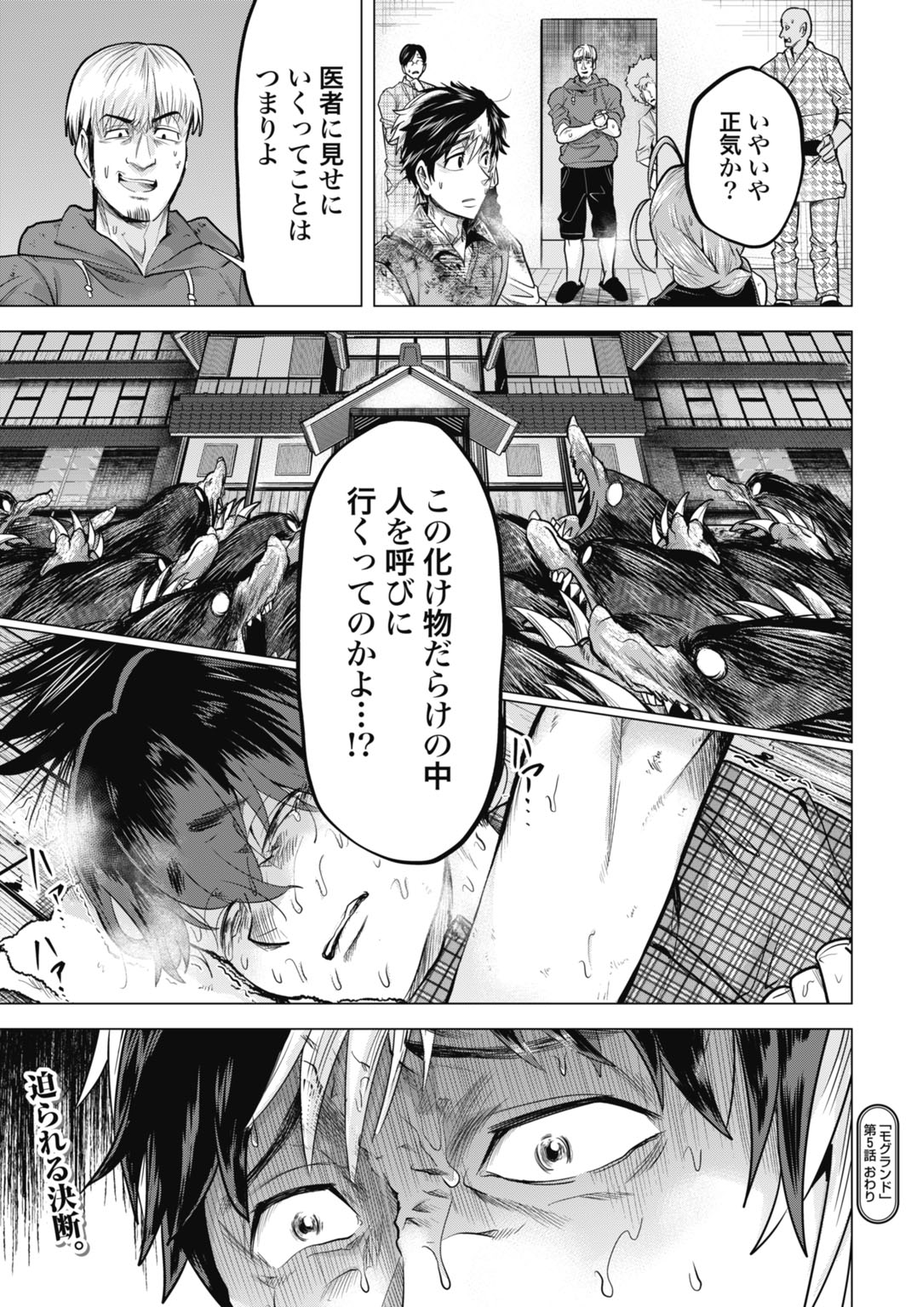bubbles: (294, 413, 509, 868), (229, 1, 366, 307), (677, 65, 805, 251)
